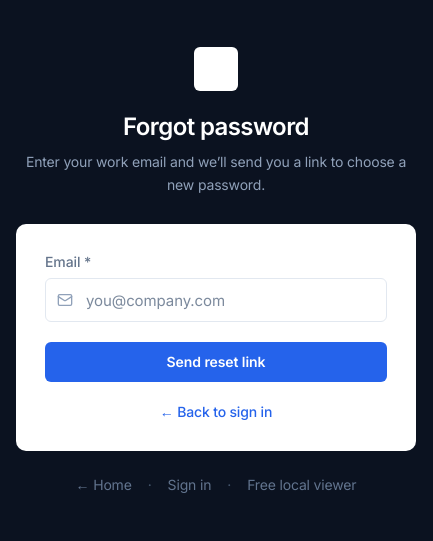
Scenario: ForgotPasswordPage › shows an API error without changing the success state
This screenshot has width=433, height=541.
Type "user@example.com" into the field labelled "Email *" at (216, 300), box x1=45 y1=278 x2=387 y2=322
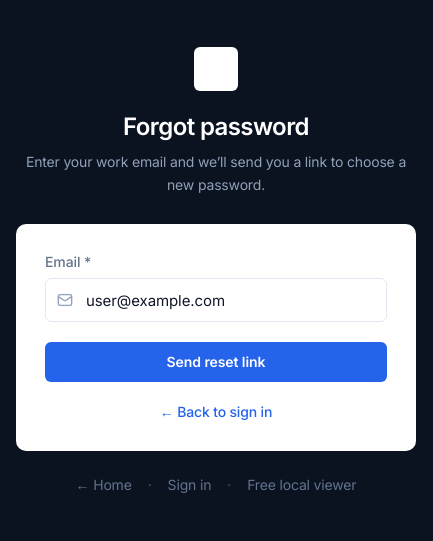
Click the button "Send reset link" at (216, 362), box x1=45 y1=342 x2=387 y2=382
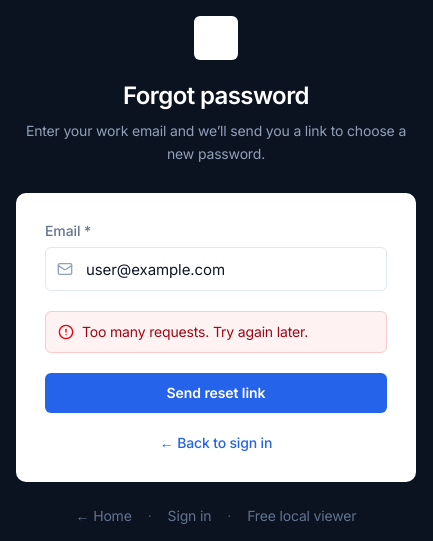
Result: the message reads "Too many requests. Try again later." at x1=82 y1=323 x2=308 y2=340
